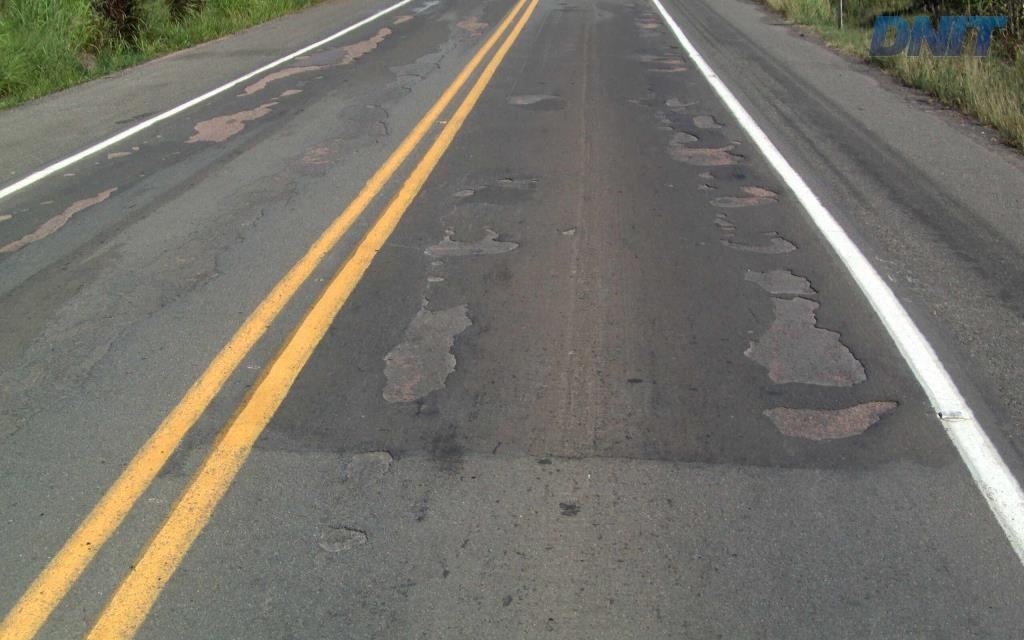pothole: (733, 265, 877, 388), (371, 295, 477, 410), (754, 395, 906, 445), (413, 226, 523, 263), (703, 181, 785, 229), (658, 129, 748, 168), (339, 443, 403, 494), (308, 518, 375, 556), (715, 227, 799, 257), (501, 88, 564, 109), (687, 110, 730, 131), (548, 220, 587, 241), (495, 171, 519, 187), (453, 186, 478, 201), (695, 183, 714, 190)
